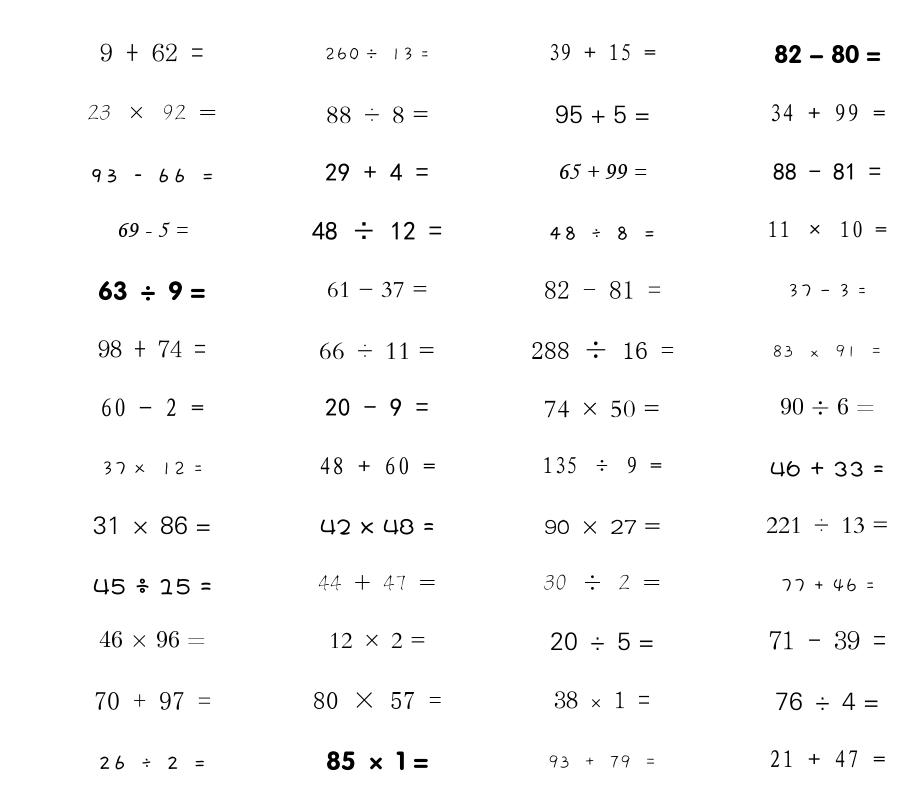MQ: (531, 341, 674, 359), (312, 221, 442, 240), (769, 630, 886, 650), (93, 516, 211, 535), (544, 280, 661, 299), (313, 692, 442, 709), (767, 220, 887, 238), (98, 281, 206, 301), (542, 456, 662, 474), (774, 44, 881, 64), (769, 104, 886, 122), (319, 457, 436, 475), (94, 692, 211, 710), (769, 750, 886, 768), (766, 517, 889, 534), (319, 342, 435, 360), (544, 400, 660, 418), (87, 104, 217, 120), (326, 751, 429, 771), (93, 578, 212, 595), (100, 43, 204, 62), (100, 398, 204, 417), (325, 398, 429, 417), (550, 632, 654, 651), (775, 692, 879, 711), (320, 518, 435, 535), (548, 43, 656, 61), (98, 340, 206, 358), (770, 460, 884, 477), (99, 630, 206, 648), (89, 168, 215, 183), (318, 575, 436, 591), (543, 574, 661, 590), (325, 163, 429, 181), (326, 106, 429, 124), (773, 163, 881, 180), (555, 105, 650, 124), (544, 519, 661, 534), (554, 691, 650, 709), (327, 281, 428, 298), (780, 397, 875, 415), (98, 755, 207, 770), (772, 344, 883, 358), (329, 632, 426, 648), (101, 461, 203, 476), (548, 755, 657, 769), (548, 226, 656, 240), (324, 47, 430, 61), (557, 163, 647, 179), (780, 578, 875, 593), (787, 283, 867, 298), (116, 222, 188, 237)
